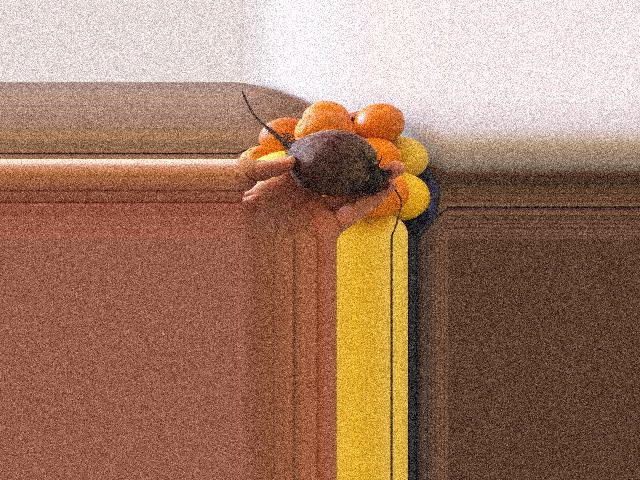beet: (242, 91, 389, 196)
